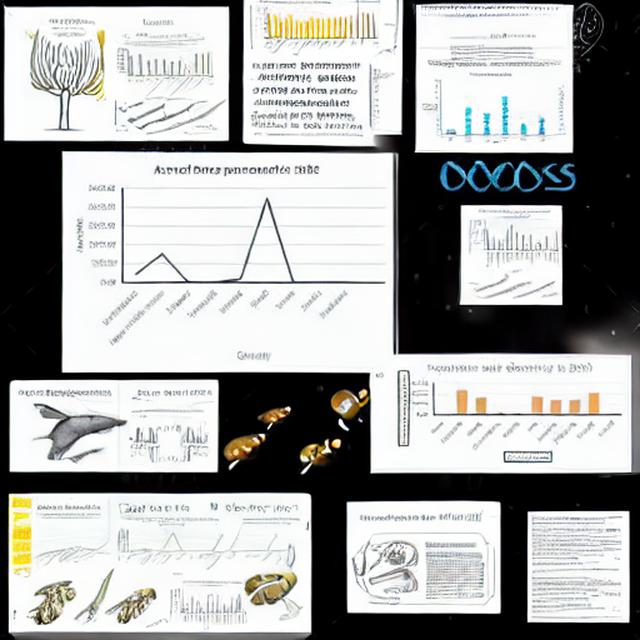Graph: (67, 156, 391, 367), (392, 357, 630, 470), (418, 69, 554, 149), (116, 515, 229, 579), (466, 208, 560, 275), (246, 0, 349, 60), (112, 40, 209, 97), (171, 579, 243, 631)
